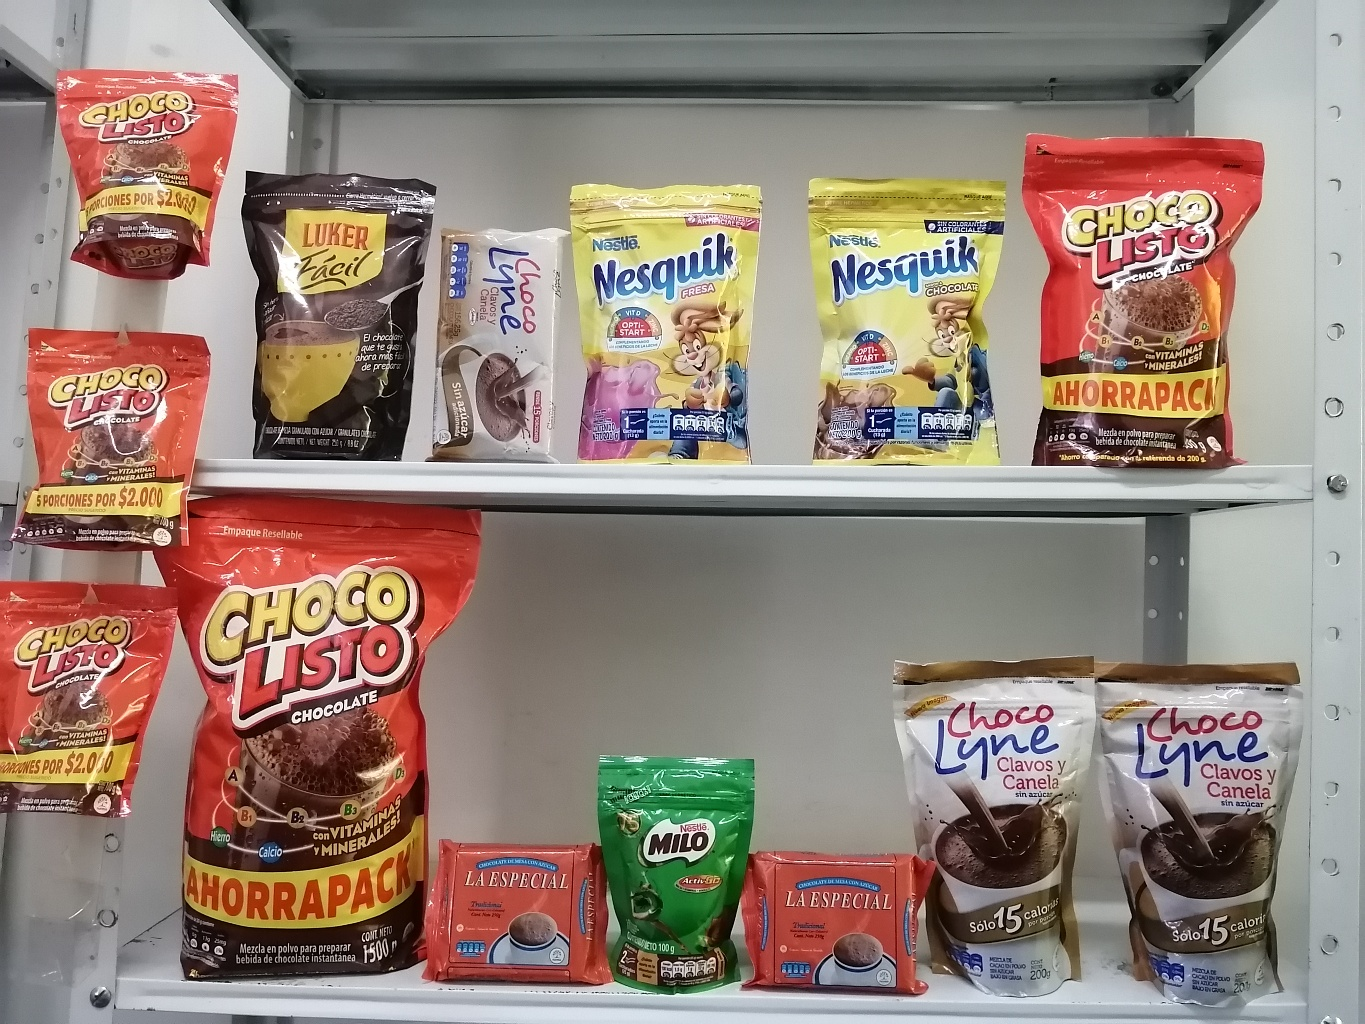COL0170103DYP1,500: (150, 495, 467, 975)
COL0170103DYP10000: (51, 69, 243, 278)
COL0170103DYP40000: (1023, 127, 1263, 467)
COL0170203DYP10000: (594, 750, 756, 994)
COL0170303DYP20000: (804, 172, 1010, 465)
COL0170305DYP20000: (566, 180, 760, 464)
